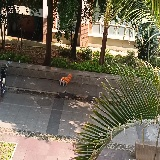fire: (61, 73, 72, 83)
